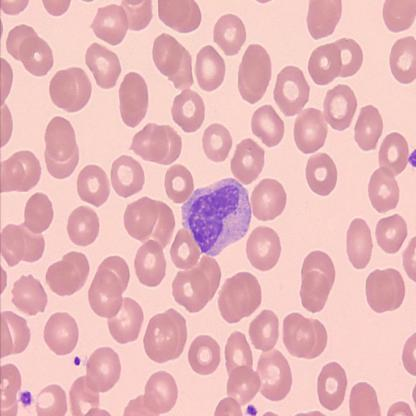Metamyelocyte: (178, 172, 254, 262)
